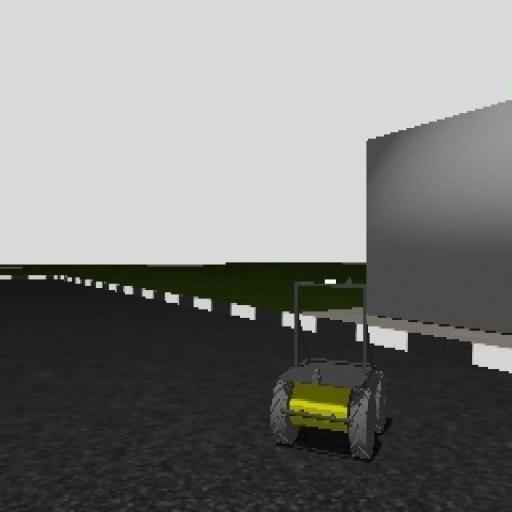huskya200: (257, 271, 401, 476)
